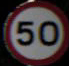Speed limit: (5, 4, 62, 56)
